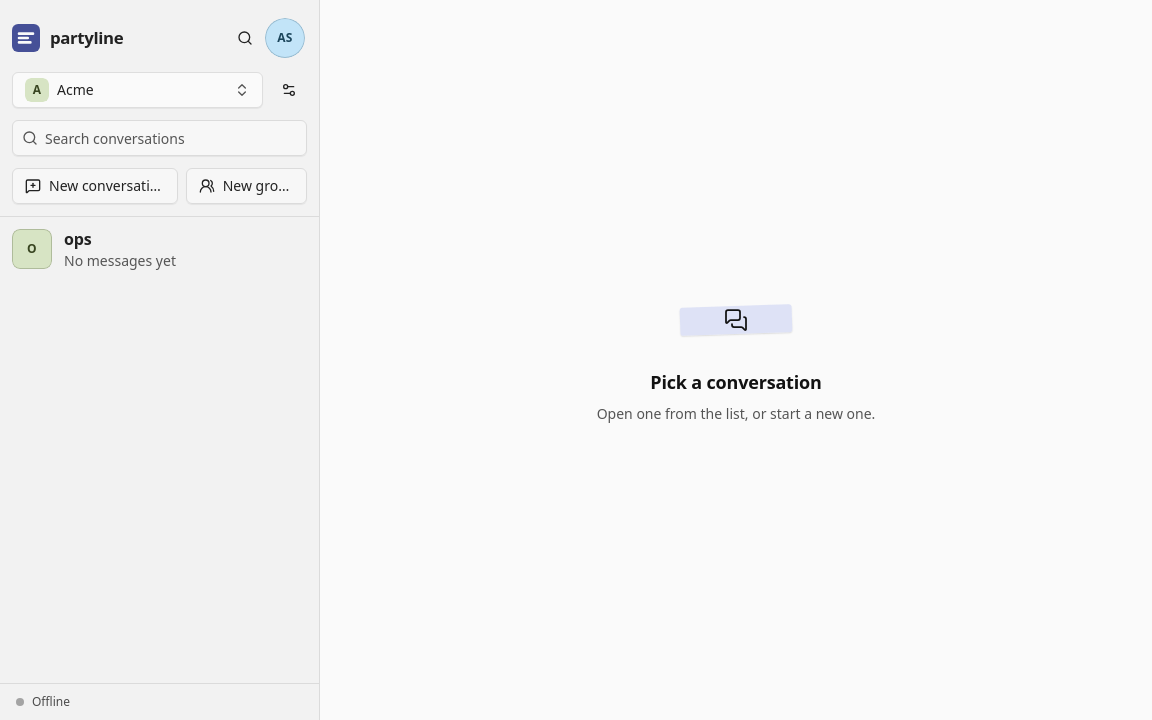
Test: the gear beside the switcher (SET-09) › names the organization and the role at the top
The image size is (1152, 720).
Click the button named "Pages of Acme" at (289, 90), box x1=271 y1=72 x2=307 y2=108
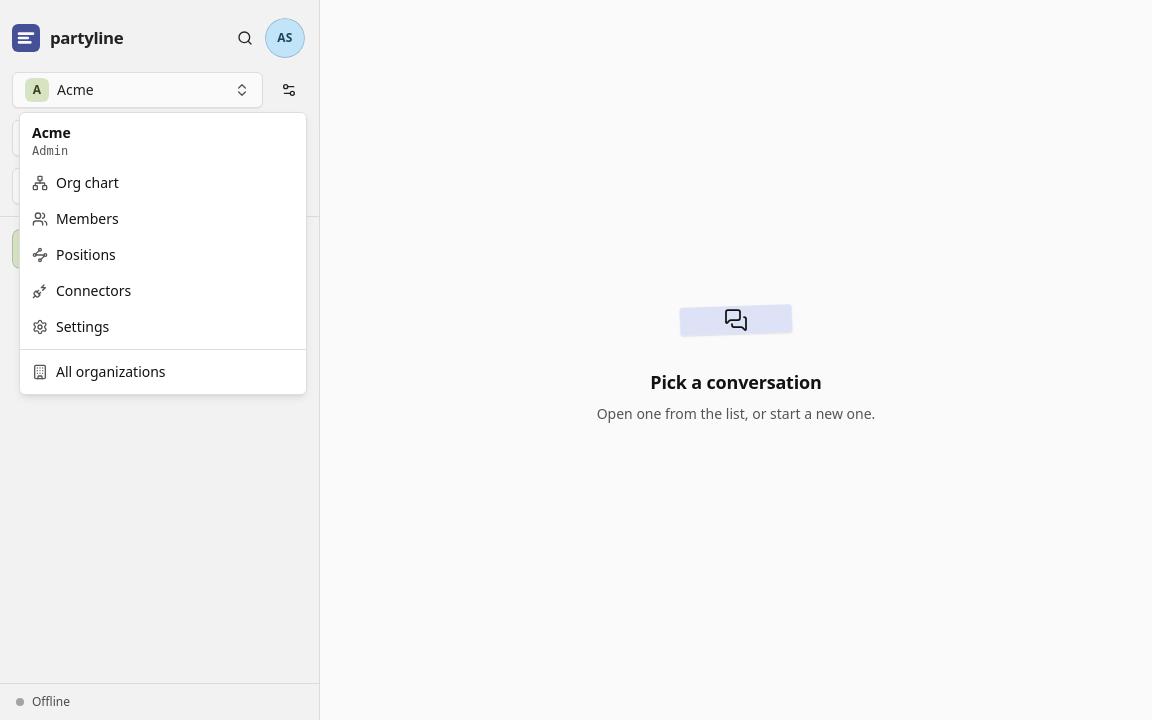
Check: the 2nd text "Acme" is shown, box x1=32 y1=123 x2=71 y2=142
Check: the text "Admin" is shown, box x1=32 y1=144 x2=68 y2=158
